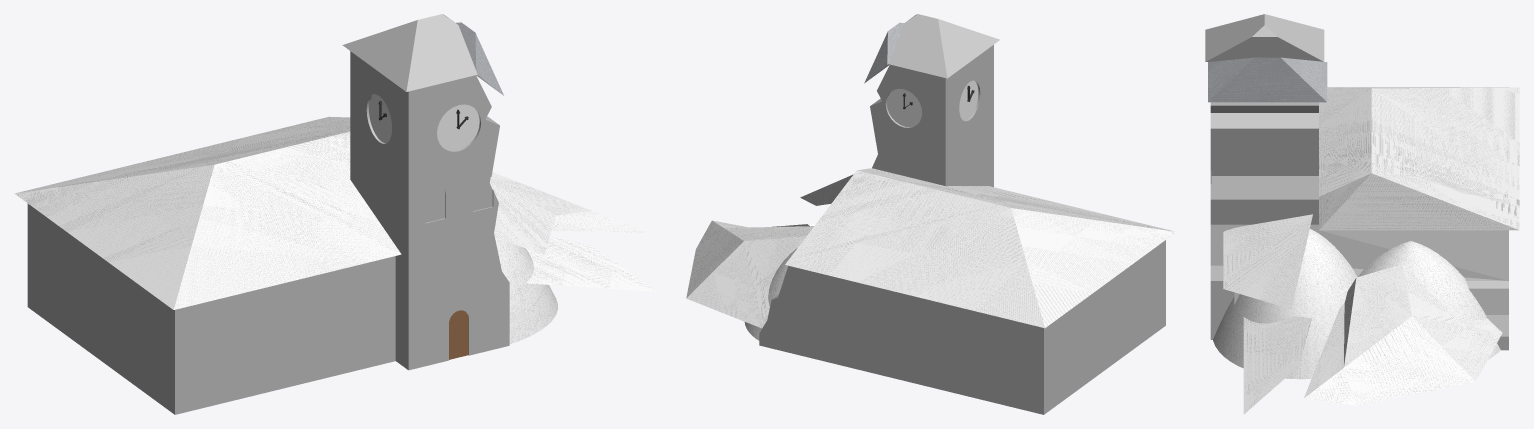
The model's file is Clocktower.dae.
The picture shows the model from 3 angles, left to right: view 1: azimuth 30°, elevation 25°; view 2: azimuth 150°, elevation 25°; view 3: azimuth 270°, elevation 25°; orthographic projection. The views are drawn at different scales.
Parts seen in each view (by area): view 1: group_1 (×5), group_12, group_10 (×2), group_5, group_7, group_11, group_6; view 2: group_1 (×3), group_12, group_11, group_5, group_6, group_10, group_8; view 3: group_12, group_1, group_11, group_10 (×2), group_7, group_6, group_5, group_8.
Part boxes in pixels (x1,y1,x2,y2): group_1 (×5): [27, 51, 509, 414]; group_12: [14, 116, 401, 309]; group_10 (×2): [490, 182, 656, 291]; group_5: [342, 14, 477, 91]; group_7: [495, 237, 557, 344]; group_11: [490, 172, 648, 232]; group_6: [456, 22, 503, 95]; group_1 (×3): [759, 45, 1165, 414]; group_12: [785, 168, 1176, 328]; group_11: [686, 220, 813, 328]; group_5: [888, 14, 999, 78]; group_6: [864, 22, 904, 83]; group_10: [800, 174, 853, 205]; group_8: [744, 248, 797, 340]; group_12: [1319, 87, 1519, 230]; group_1: [1210, 102, 1508, 350]; group_11: [1304, 264, 1502, 405]; group_10 (×2): [1223, 214, 1312, 414]; group_7: [1213, 229, 1356, 379]; group_6: [1208, 57, 1327, 102]; group_5: [1205, 14, 1324, 61]; group_8: [1358, 241, 1500, 359].
Bounding box in the file's own units: 926 × 522 × 545.
